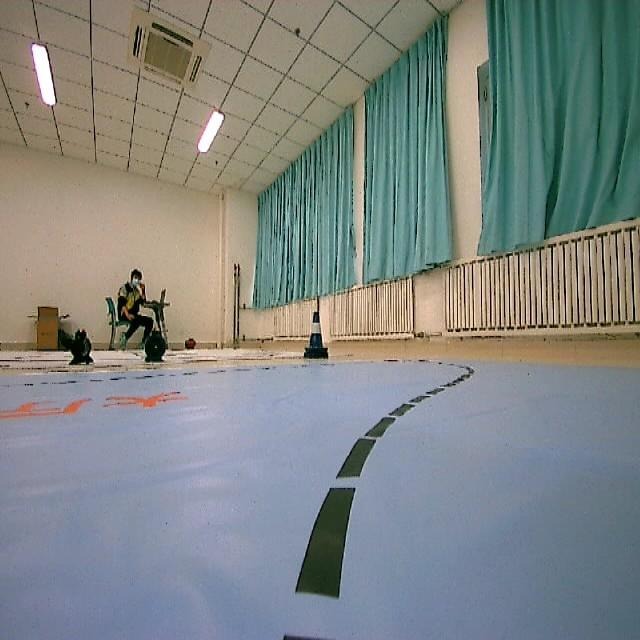obstacle: (300, 304, 334, 370)
